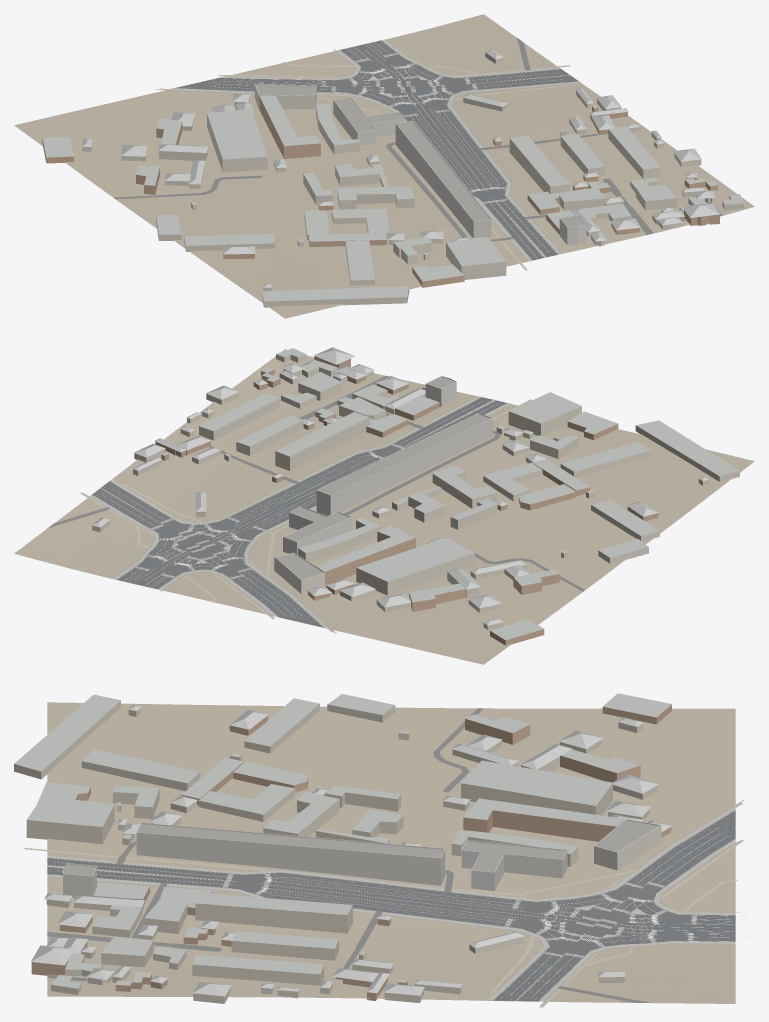
Rendered from bolak_-9_-2.glb.
The picture shows the model from 3 angles, top to bottom: view 1: azimuth 30°, elevation 25°; view 2: azimuth 150°, elevation 25°; view 3: azimuth 270°, elevation 25°; orthographic projection. The views are drawn at different scales.
Parts seen in each view (by area): view 1: Yer_Tuproq-col, Tom_Shifer, Yol_Asfalt-col, Devor_Suvoq-col, Devor_Gisht-col, Tom_Tekis, Trotuar, Yol_Chiziq, Devor_Panel-col, Yol_Mahalla-col, Devor_Dokon-col, Yol_Piyoda (+2 smaller); view 2: Yer_Tuproq-col, Tom_Shifer, Devor_Suvoq-col, Yol_Asfalt-col, Devor_Gisht-col, Devor_Panel-col, Tom_Tekis, Trotuar, Yol_Chiziq, Yol_Mahalla-col, Devor_Dokon-col, Yol_Piyoda (+2 smaller); view 3: Yer_Tuproq-col, Tom_Shifer, Yol_Asfalt-col, Devor_Suvoq-col, Devor_Panel-col, Devor_Gisht-col, Trotuar, Tom_Tekis, Yol_Chiziq, Devor_Dokon-col, Yol_Mahalla-col, Yol_Piyoda (+2 smaller).
Part boxes in pixels (x1,y1,x2,y2): Yer_Tuproq-col: [14, 14, 754, 318]; Tom_Shifer: [42, 49, 743, 301]; Yol_Asfalt-col: [174, 40, 578, 260]; Devor_Suvoq-col: [82, 52, 743, 307]; Devor_Gisht-col: [42, 96, 719, 287]; Tom_Tekis: [255, 84, 584, 226]; Trotuar: [168, 39, 580, 318]; Yol_Chiziq: [157, 37, 571, 257]; Devor_Panel-col: [395, 121, 491, 237]; Yol_Mahalla-col: [114, 38, 722, 241]; Devor_Dokon-col: [333, 97, 586, 244]; Yol_Piyoda: [160, 62, 570, 270]; Yer_Tuproq-col: [14, 349, 754, 664]; Tom_Shifer: [91, 347, 739, 640]; Devor_Suvoq-col: [92, 354, 739, 630]; Yol_Asfalt-col: [92, 397, 507, 627]; Devor_Gisht-col: [155, 356, 658, 645]; Devor_Panel-col: [316, 413, 492, 515]; Tom_Tekis: [276, 377, 490, 579]; Trotuar: [89, 396, 754, 628]; Yol_Chiziq: [95, 399, 498, 634]; Yol_Mahalla-col: [47, 360, 584, 591]; Devor_Dokon-col: [283, 376, 456, 554]; Yol_Piyoda: [80, 399, 532, 632]; Yer_Tuproq-col: [47, 702, 735, 1003]; Tom_Shifer: [14, 693, 671, 996]; Yol_Asfalt-col: [47, 810, 735, 1001]; Devor_Suvoq-col: [14, 701, 658, 1003]; Devor_Panel-col: [136, 822, 445, 885]; Devor_Gisht-col: [31, 704, 671, 1000]; Trotuar: [47, 702, 735, 1001]; Tom_Tekis: [63, 820, 658, 876]; Yol_Chiziq: [51, 802, 754, 1000]; Devor_Dokon-col: [63, 840, 567, 897]; Yol_Mahalla-col: [47, 708, 651, 1002]; Yol_Piyoda: [24, 802, 743, 1007].
Size of what is drawn, in the model's own units: 421 by 20.46 by 431.
